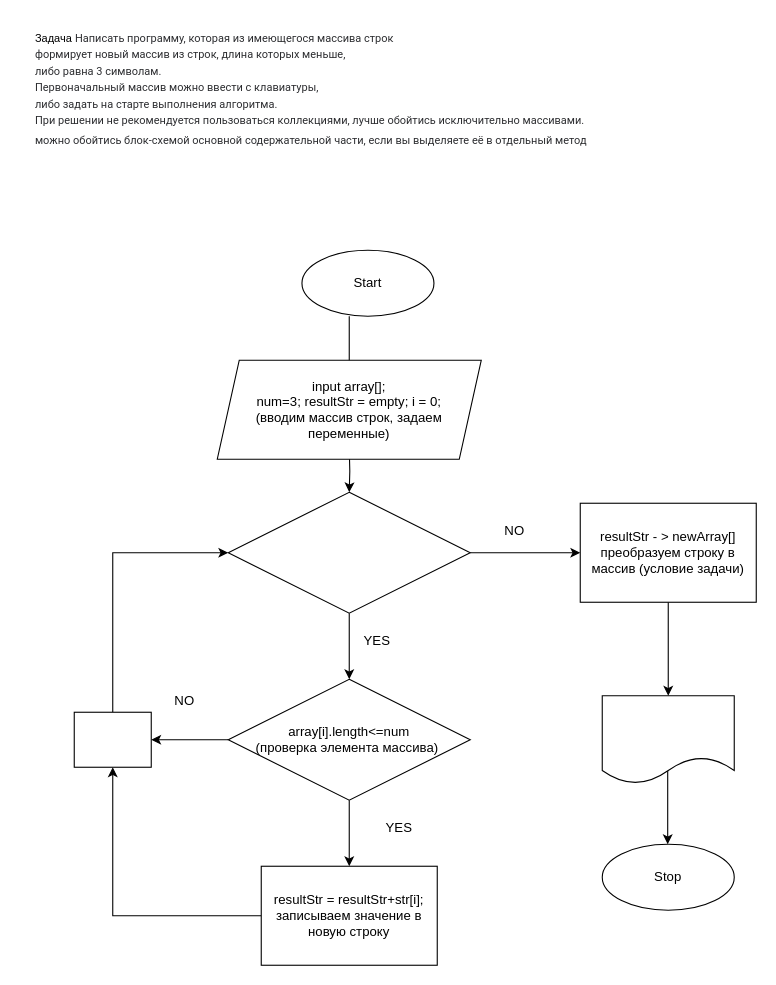
The diagram is 776 pixels wide and 985 high, and some of its shapes have lost their labels. Each missing label, with the centre of its shape:
"i < array.length? (цикл прохода по массиву)" belongs at [348,552].
"i++" belongs at [112,739].
"print newArray; (выводим результат)" belongs at [667,739].
